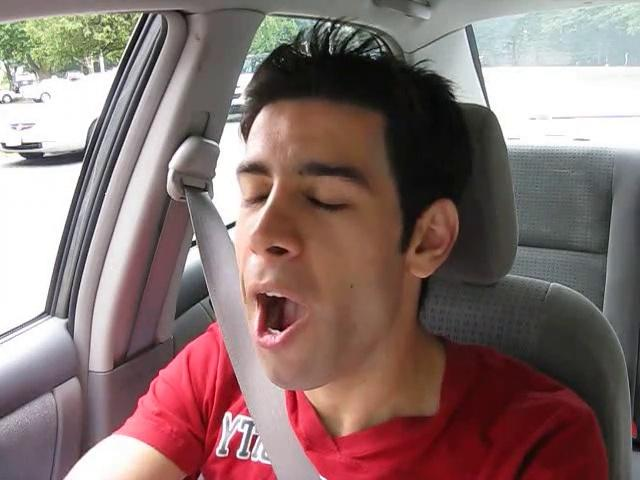close_eyeL: (229, 157, 275, 216)
close_eyeR: (286, 178, 366, 230)
yawn: (224, 279, 331, 355)
